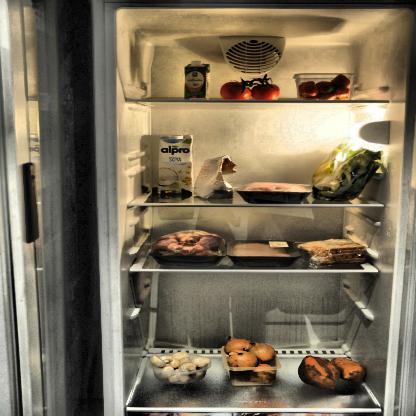chicken: (154, 230, 223, 266), (232, 241, 296, 262)
heavy_cream: (182, 60, 213, 101)
milk: (156, 133, 193, 198)
mushrooms: (148, 350, 216, 387)
onion: (222, 334, 280, 381)
spinach: (313, 140, 383, 200)
strawberries: (298, 72, 349, 102)
sweet_potato: (291, 354, 370, 392)
tomato: (219, 78, 282, 104)
